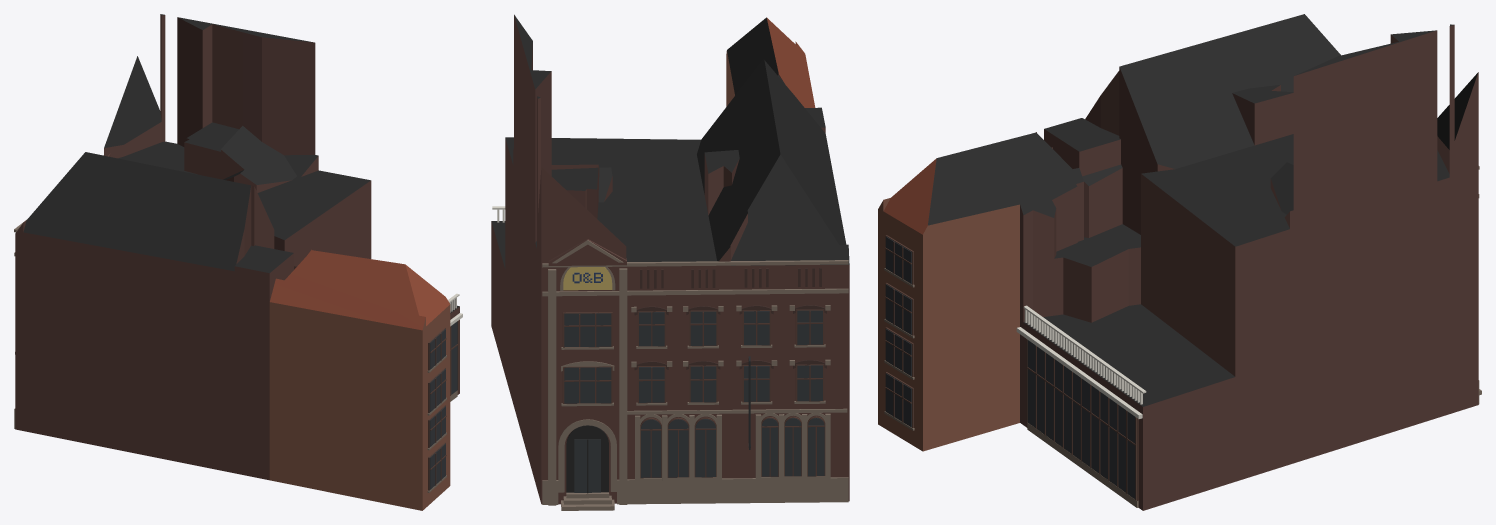
File: de-jaren.glb
The picture shows the model from 3 angles, left to right: view 1: azimuth 30°, elevation 25°; view 2: azimuth 150°, elevation 25°; view 3: azimuth 270°, elevation 25°; orthographic projection. The views are drawn at different scales.
Visible parts, largest first — view 1: de-jaren; view 2: de-jaren; view 3: de-jaren.
Boxes of the visible parts, <box> form: de-jaren: <box>14,14,462,510</box>; de-jaren: <box>491,14,849,510</box>; de-jaren: <box>878,14,1481,510</box>.
Bounding box in the file's own units: 29.18 × 24.37 × 34.38.
